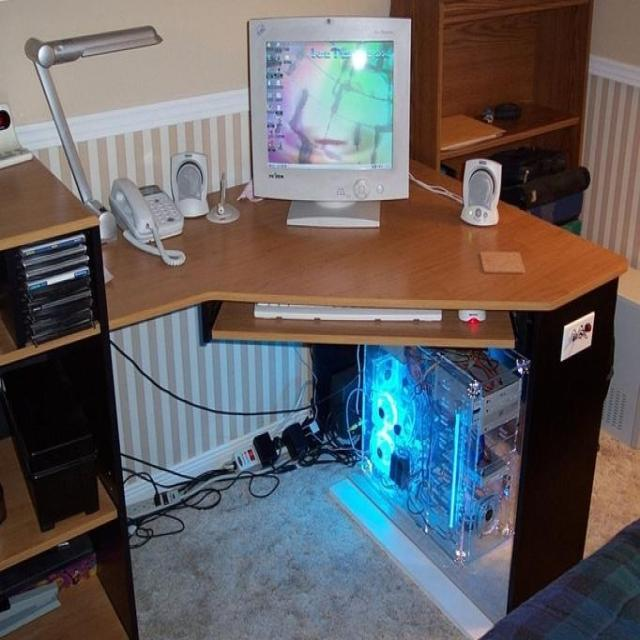Cable: (102, 341, 342, 539)
E-waste: (32, 7, 422, 244), (339, 337, 520, 562), (446, 154, 508, 236)
